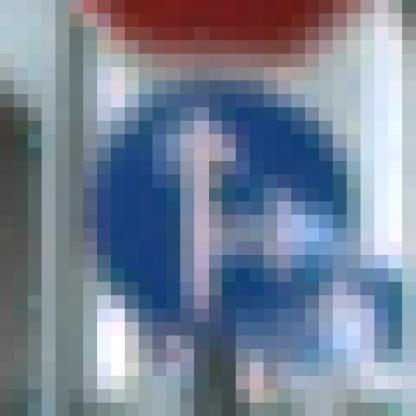Straight or Right: (70, 68, 348, 350)
